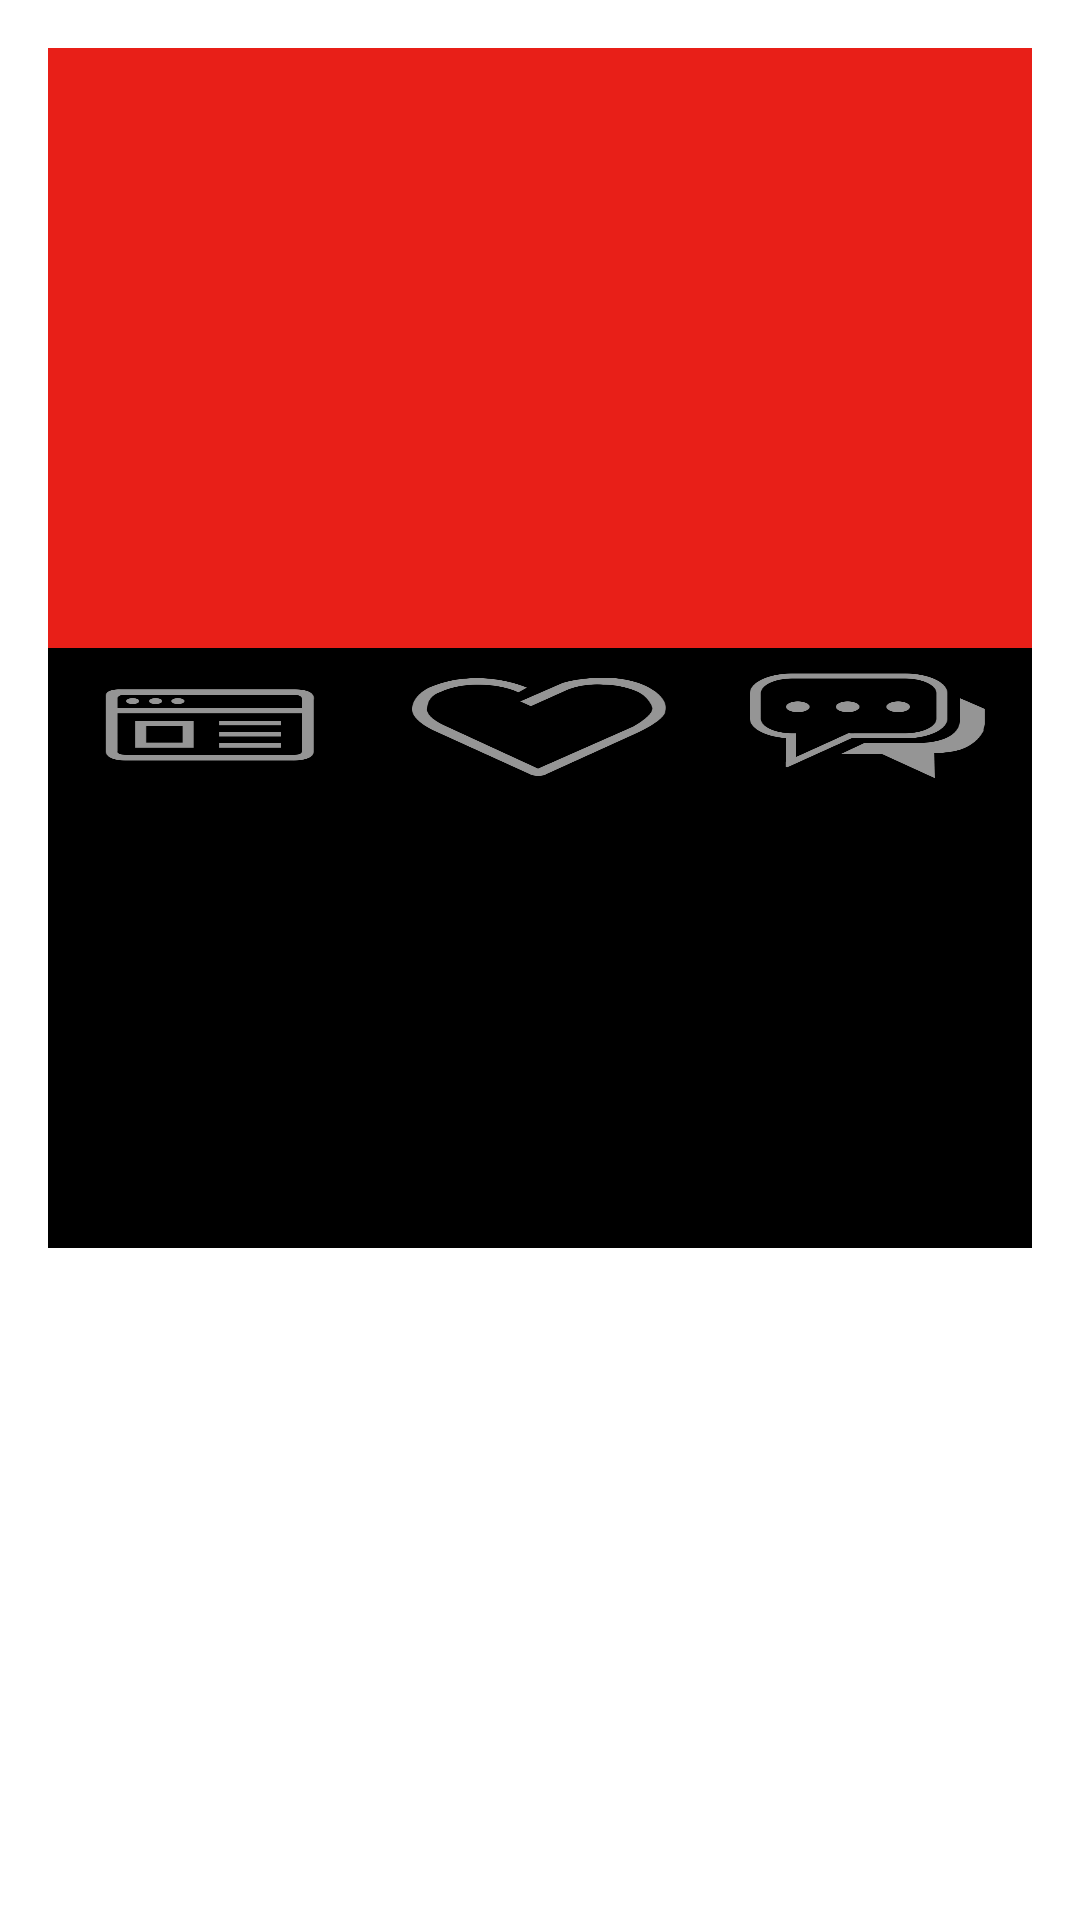

Screen size 1080*1920. Icon name, then its center in pixels as [x,y]:
bottom mine messagesetting: [867,725]
bottom mine myinfo: [210,725]
